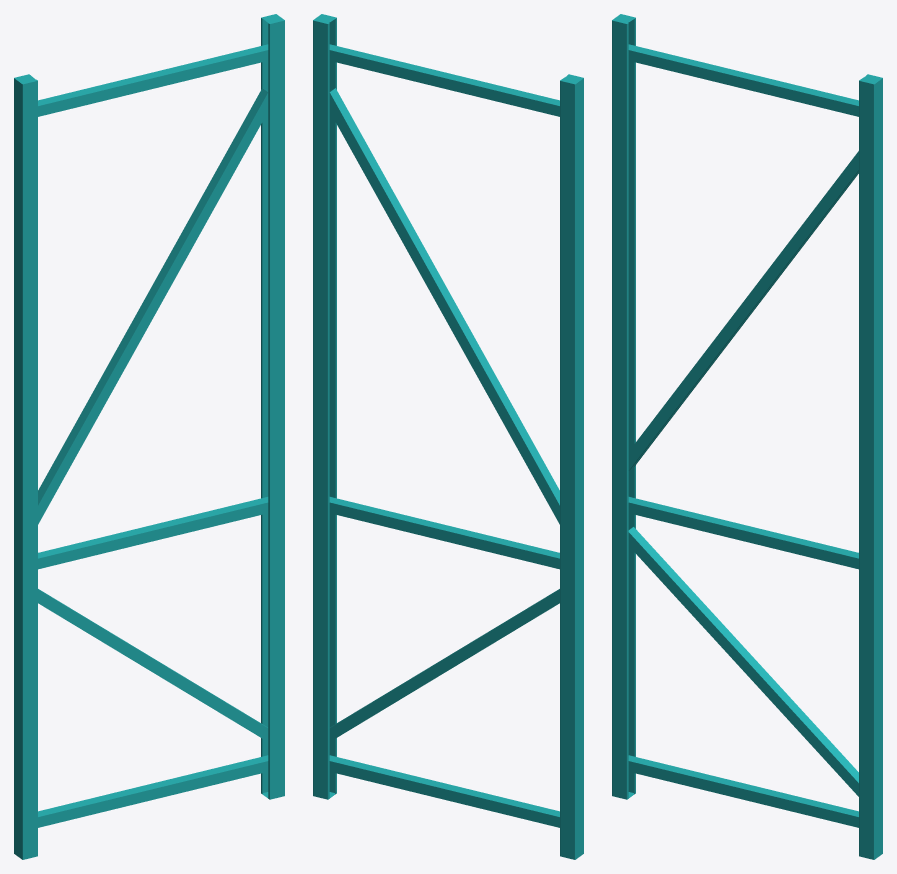
The model's file is VerticleFrame.obj.
3 views of the same model, side by side, from view 1: azimuth 30°, elevation 25°; view 2: azimuth 150°, elevation 25°; view 3: azimuth 330°, elevation 25° (orthographic).
Parts seen in each view (by area): view 1: VerticleBeam; view 2: VerticleBeam; view 3: VerticleBeam.
Part boxes in pixels (x1=…): VerticleBeam: x1=14, y1=14, x2=284, y2=859; VerticleBeam: x1=313, y1=14, x2=583, y2=859; VerticleBeam: x1=612, y1=14, x2=882, y2=859.
Bounding box in the file's own units: 1.3 × 3.66 × 0.0762.
